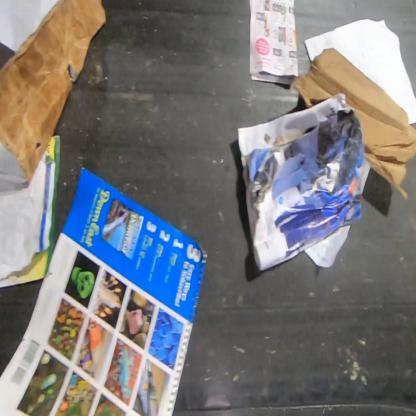cardboard: (0, 0, 108, 188), (291, 45, 415, 202)
